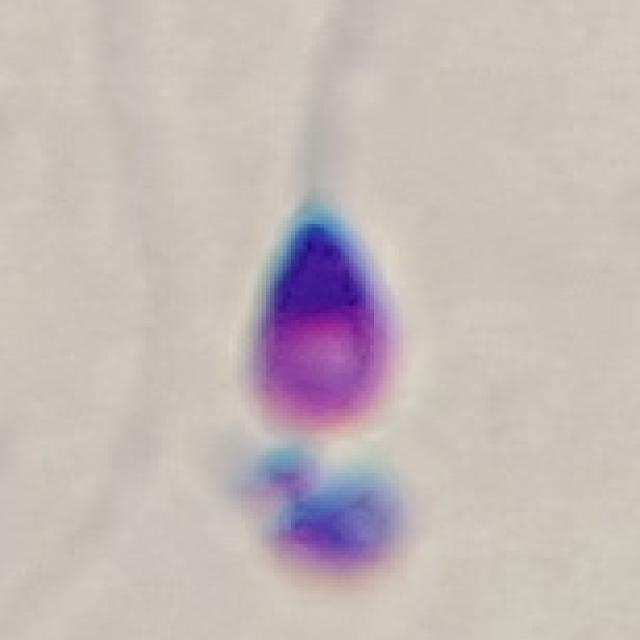normal sperm: (234, 11, 408, 437)
